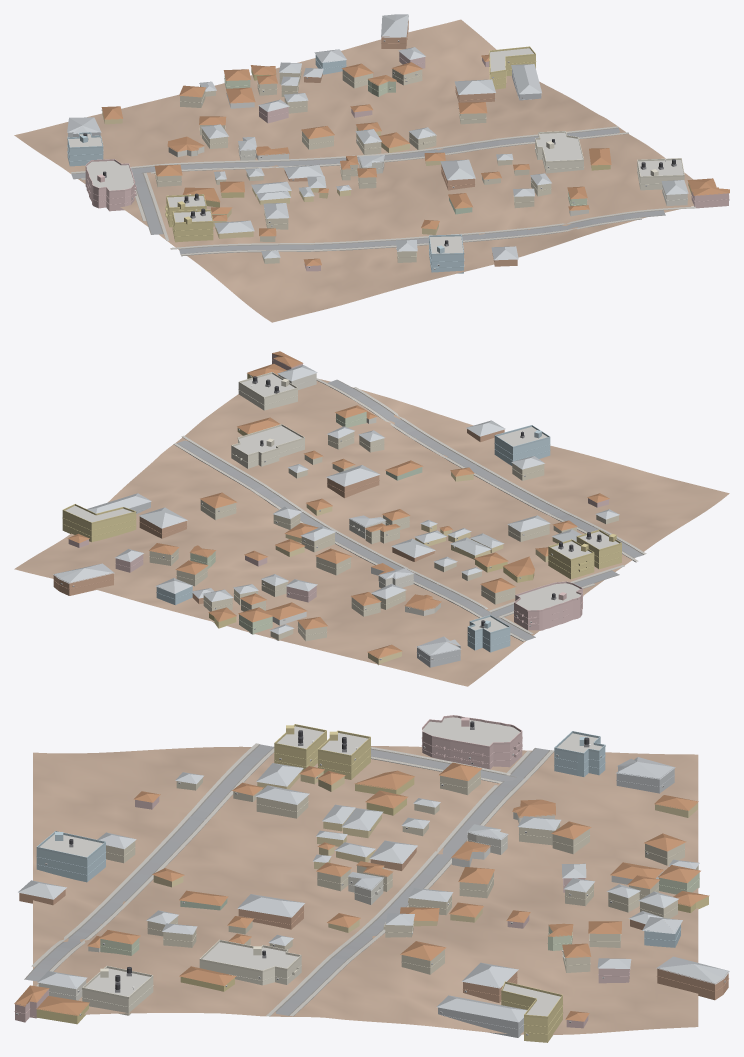
3 renders of one model, top to bottom at view 1: azimuth 30°, elevation 25°; view 2: azimuth 150°, elevation 25°; view 3: azimuth 270°, elevation 25°, orthographic. The views are drawn at different scales.
Visible parts, largest first — view 1: Terrain-col, Buildings-col, Roads-col, Details, Sidewalks-col; view 2: Terrain-col, Buildings-col, Roads-col, Details, Sidewalks-col; view 3: Terrain-col, Buildings-col, Roads-col, Details, Sidewalks-col.
Boxes of the visible parts, bbox=[...] form: Terrain-col: bbox=[14, 19, 693, 322]; Buildings-col: bbox=[67, 14, 729, 273]; Roads-col: bbox=[71, 128, 665, 254]; Details: bbox=[67, 21, 729, 269]; Sidewalks-col: bbox=[71, 126, 695, 256]; Terrain-col: bbox=[14, 379, 729, 686]; Buildings-col: bbox=[53, 351, 621, 667]; Roads-col: bbox=[177, 379, 643, 640]; Details: bbox=[54, 360, 621, 661]; Sidewalks-col: bbox=[173, 378, 646, 641]; Terrain-col: bbox=[33, 746, 698, 1034]; Buildings-col: bbox=[14, 717, 729, 1042]; Roads-col: bbox=[24, 744, 550, 1015]; Details: bbox=[14, 715, 728, 1035]; Sidewalks-col: bbox=[31, 743, 554, 1016].
Bounding box in the file's own units: 272 × 19.11 × 276.
